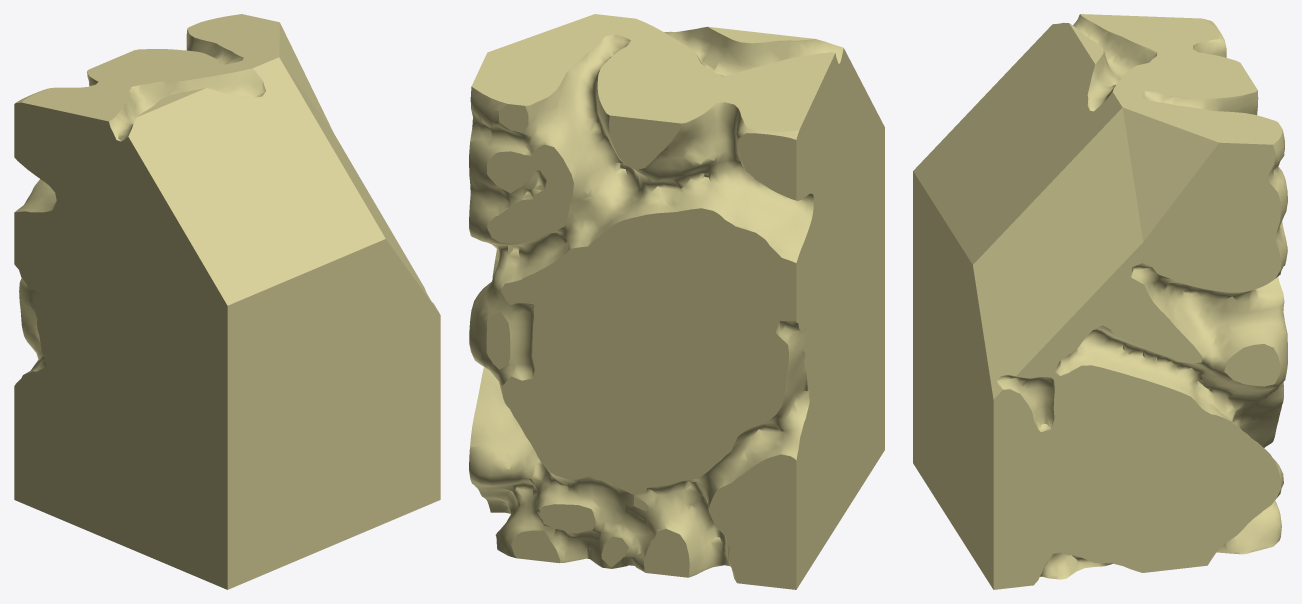
File: Ruins_2.glb
3 views of the same model, side by side, from view 1: azimuth 30°, elevation 25°; view 2: azimuth 150°, elevation 25°; view 3: azimuth 270°, elevation 25° (orthographic). The views are drawn at different scales.
Visible parts, largest first — view 1: Ruins_2; view 2: Ruins_2; view 3: Ruins_2.
Boxes of the visible parts, x1=… form: Ruins_2: x1=14, y1=14, x2=440, y2=589; Ruins_2: x1=469, y1=14, x2=884, y2=589; Ruins_2: x1=913, y1=14, x2=1287, y2=589.
Size of the model in its own units: 2.45 by 3.08 by 2.42.
